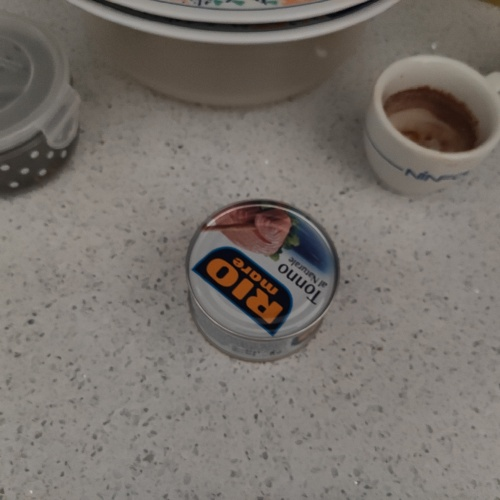tonno: (177, 197, 350, 368)
